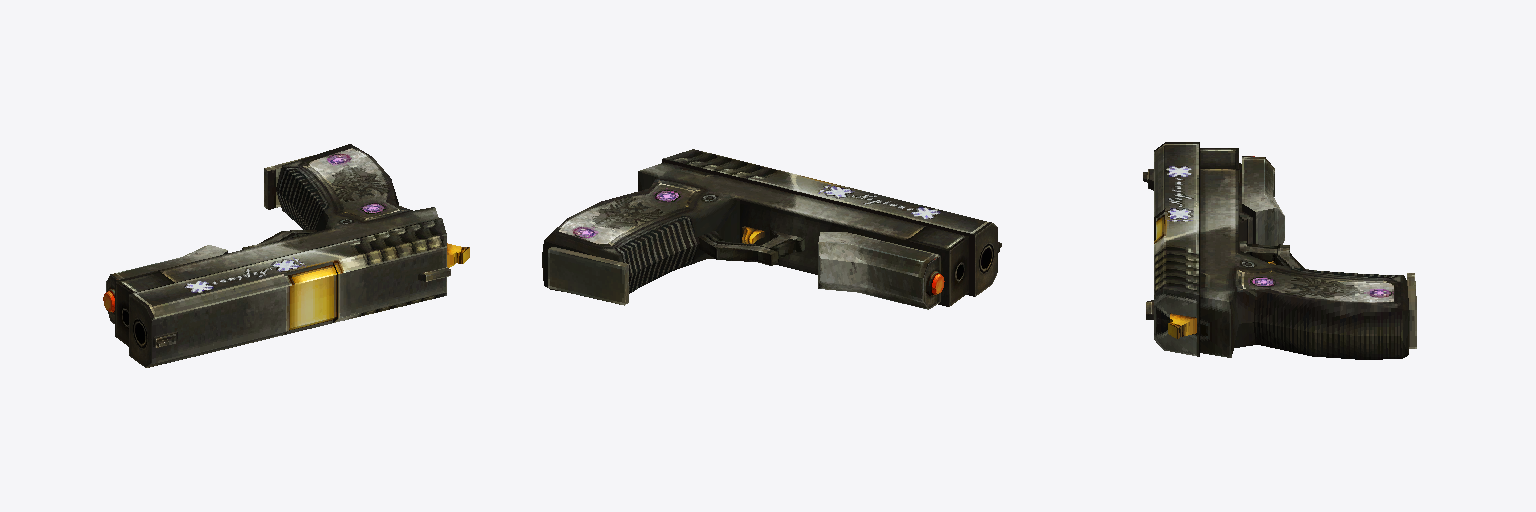
The picture shows the model from 3 angles: view 1: azimuth 30°, elevation 25°; view 2: azimuth 150°, elevation 25°; view 3: azimuth 270°, elevation 25°; orthographic projection.
Visible parts, largest first — view 1: Weapon_NeptuneGun; view 2: Weapon_NeptuneGun; view 3: Weapon_NeptuneGun.
Boxes of the visible parts, <box> form: Weapon_NeptuneGun: <box>103,144,469,367</box>; Weapon_NeptuneGun: <box>542,149,1001,309</box>; Weapon_NeptuneGun: <box>1143,142,1416,359</box>.
Size of the model in its own units: 10.81 by 1.98 by 7.69.
Materials: 1 (1 with a texture image).